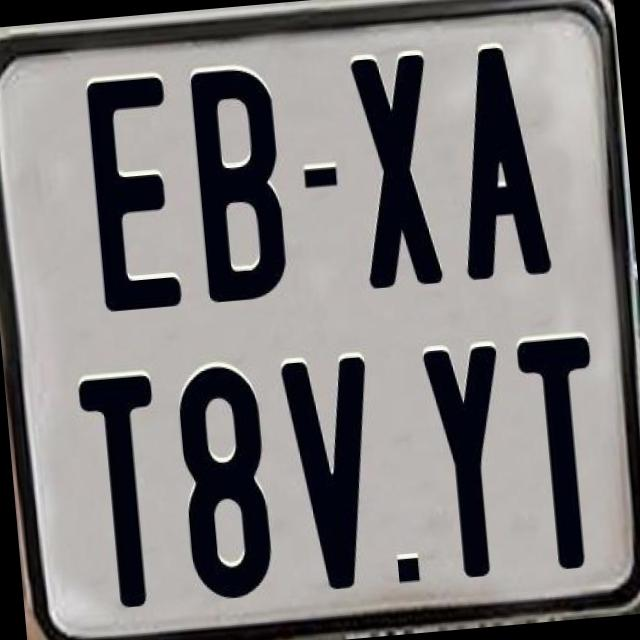8: (170, 358, 276, 598)
A: (448, 41, 554, 282)
B: (186, 66, 290, 309)
E: (83, 70, 185, 307)
T: (512, 336, 606, 580), (77, 372, 171, 610)
V: (276, 353, 382, 592)
X: (346, 52, 444, 289)
Y: (418, 342, 514, 578)
